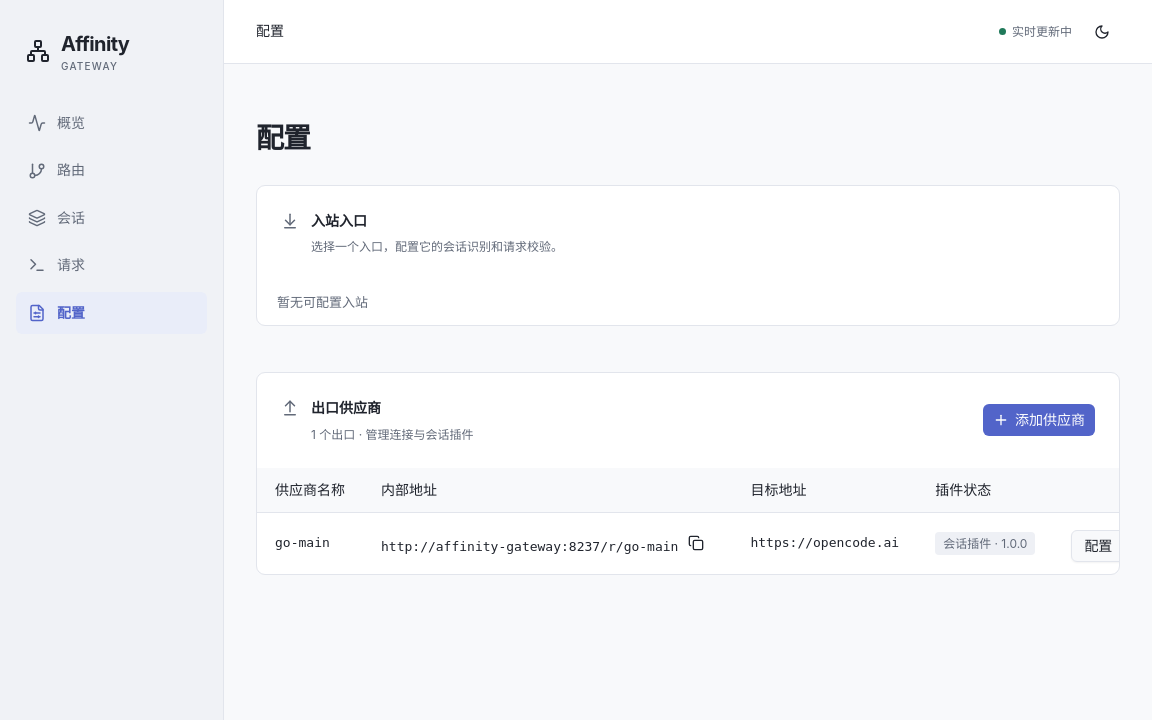
Scenario: supplier configuration › copies the internal URL and reports success
Click the button named "复制 go-main 内部地址" at [696, 543], box [678, 525, 714, 561]
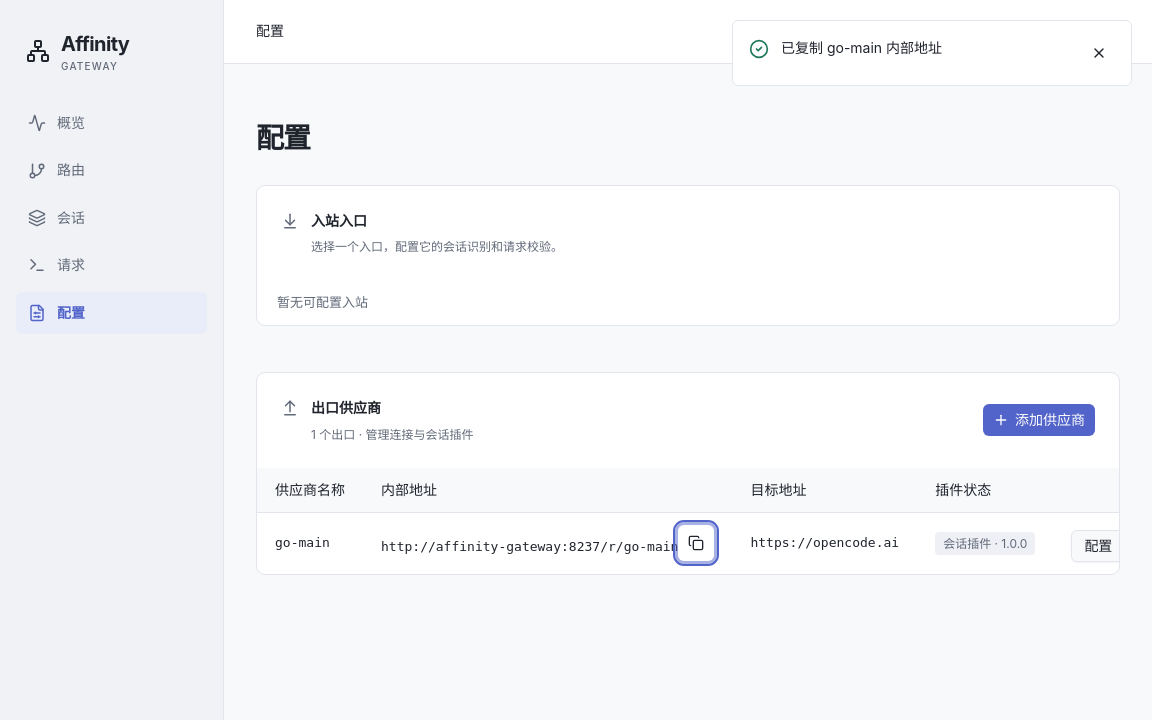
expect the text "已复制 go-main 内部地址" is shown: met, box [781, 39, 942, 56]
